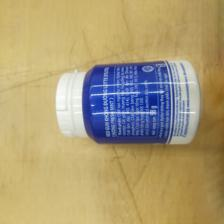Xylitol_blue: (55, 58, 201, 146)
